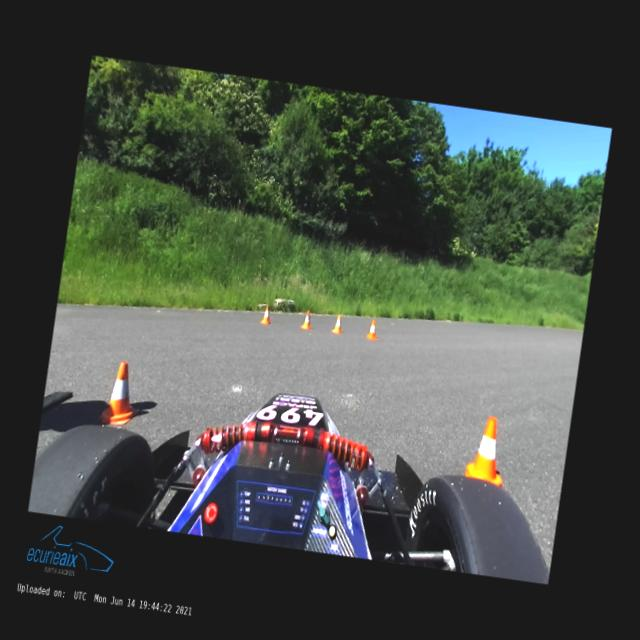orange_cone: (464, 414, 510, 488), (100, 360, 146, 427), (301, 310, 314, 330), (332, 314, 344, 334), (366, 320, 378, 340), (260, 306, 272, 326)
